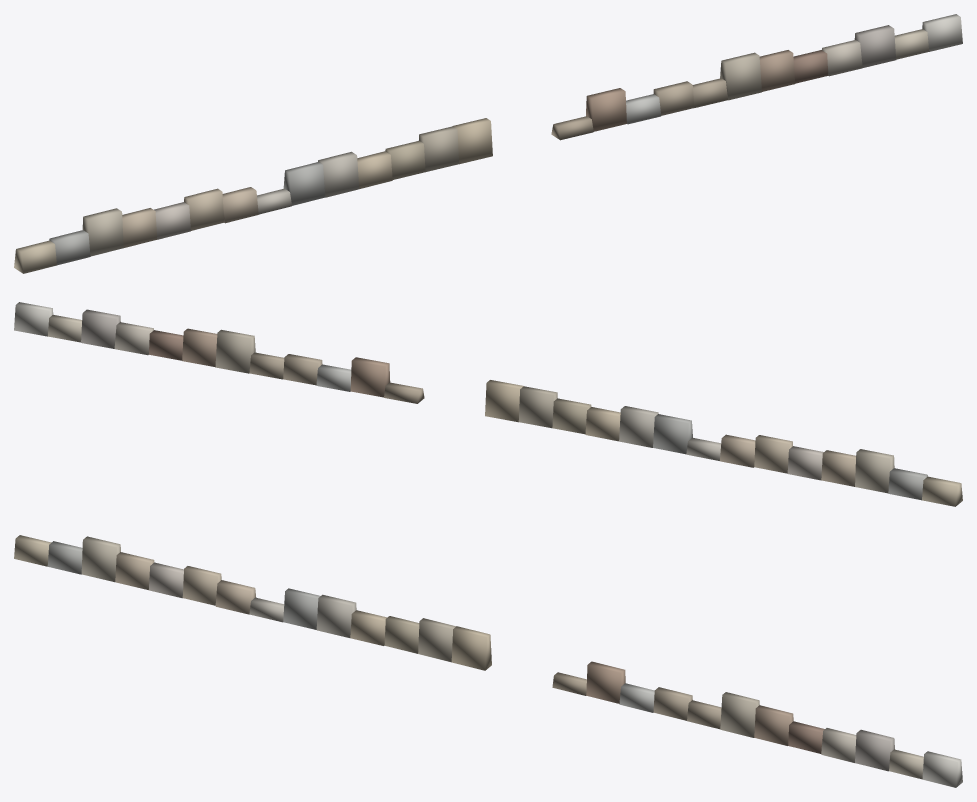
Rendered from farm_24_13_collision.glb.
3 renders of one model, top to bottom at view 1: azimuth 30°, elevation 25°; view 2: azimuth 150°, elevation 25°; view 3: azimuth 330°, elevation 25°, orthographic. The views are drawn at different scales.
Parts seen in each view (by area): view 1: geometry_0; view 2: geometry_0; view 3: geometry_0.
Boxes of the visible parts, left/top/right/bottom form: geometry_0: left=14, top=14, right=962, bottom=273; geometry_0: left=14, top=302, right=962, bottom=506; geometry_0: left=14, top=535, right=962, bottom=787.
Bounding box in the file's own units: 44.25 × 2.71 × 2.98.
